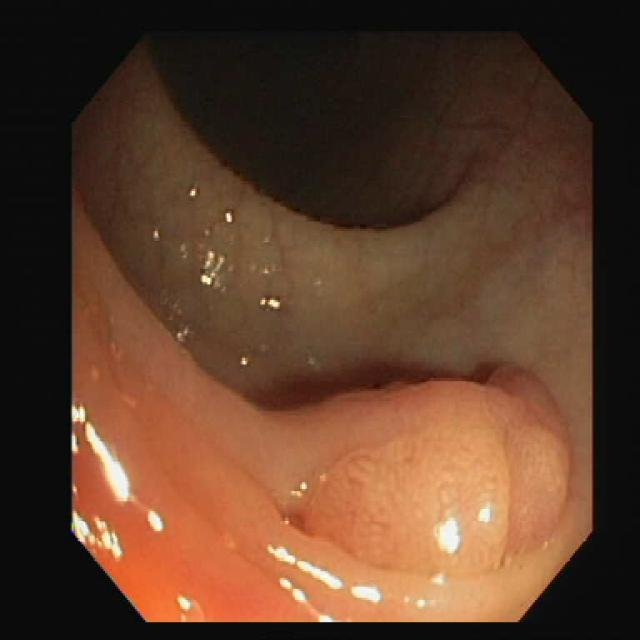tumor: (292, 367, 585, 582)
